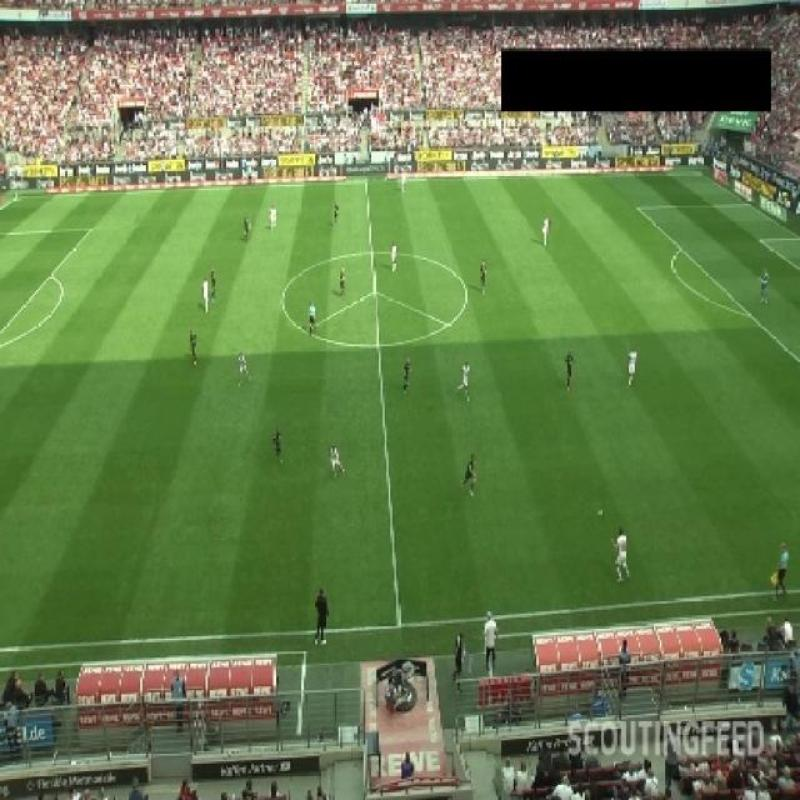1: (9, 184, 33, 204), (686, 161, 706, 179)
10: (42, 262, 62, 282), (673, 241, 691, 258)
11: (740, 306, 758, 326)
13: (358, 168, 378, 188)
14: (359, 238, 383, 264)
15: (365, 328, 389, 358)
16: (380, 604, 414, 638)
2: (740, 194, 756, 210)
7: (751, 230, 771, 250)
9: (80, 217, 101, 237), (628, 198, 646, 218)
c: (269, 290, 299, 318), (454, 280, 478, 309)
